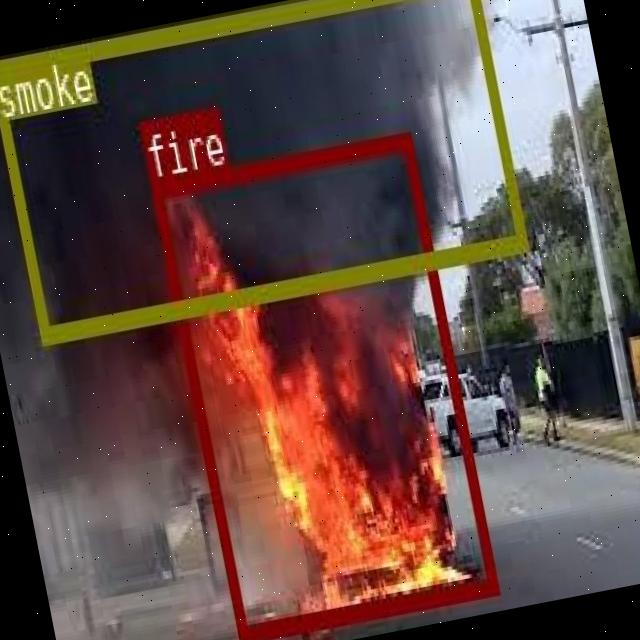fire: (150, 131, 498, 640)
smoke: (0, 0, 526, 342)
